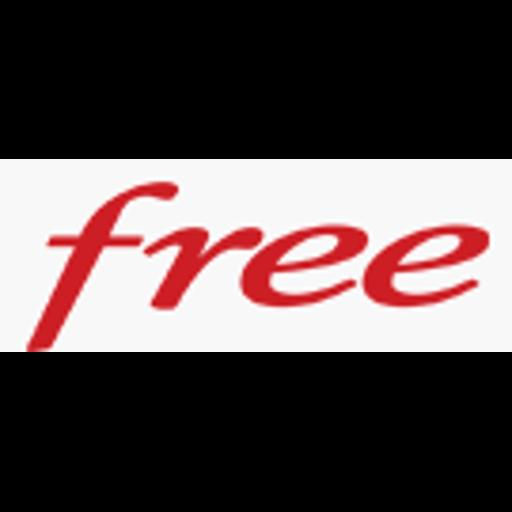Free ISP: (0, 159, 512, 352)
